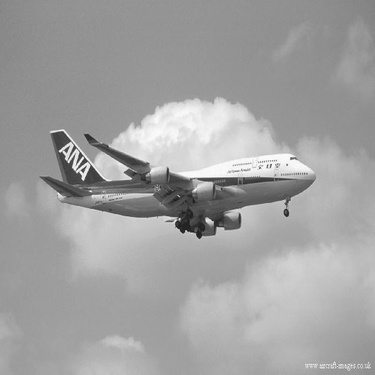airplane: (41, 114, 323, 249)
